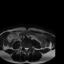CCS_normal: (26, 46, 27, 52)
LFS_severe_stenosis: (29, 45, 30, 49)
LLS_normal: (27, 46, 29, 51)
RFS_severe_stenosis: (22, 45, 24, 49)
RLS_normal: (24, 46, 26, 51)
